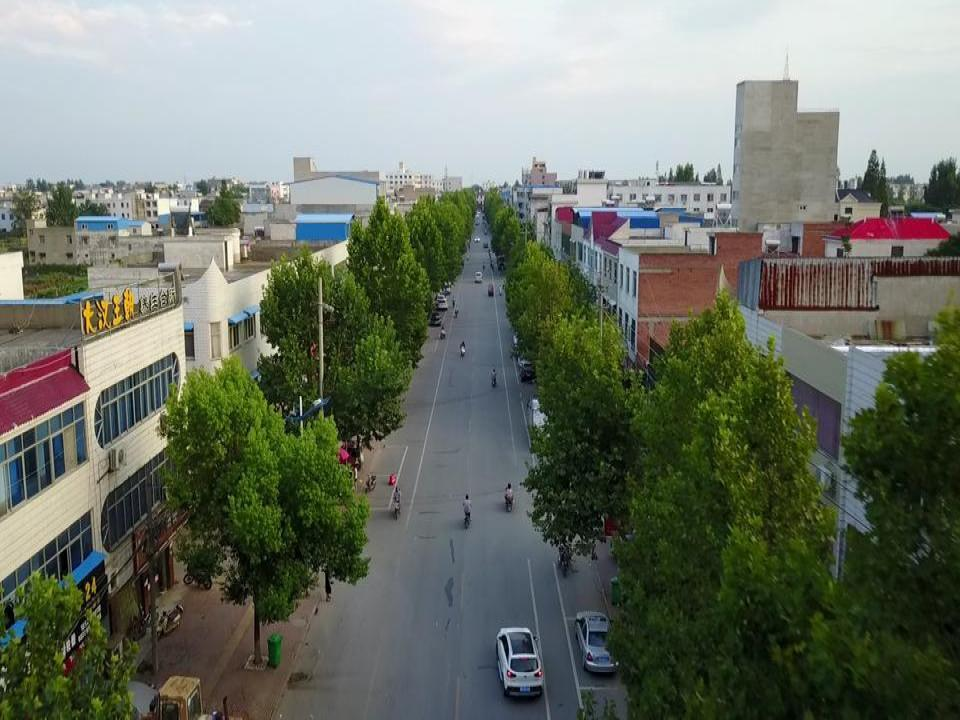car: (496, 626, 543, 698), (574, 611, 619, 674), (526, 392, 561, 451), (519, 360, 535, 383), (512, 329, 528, 351), (516, 350, 533, 369), (438, 281, 451, 296), (429, 312, 442, 327), (436, 296, 448, 309), (474, 272, 483, 283)
